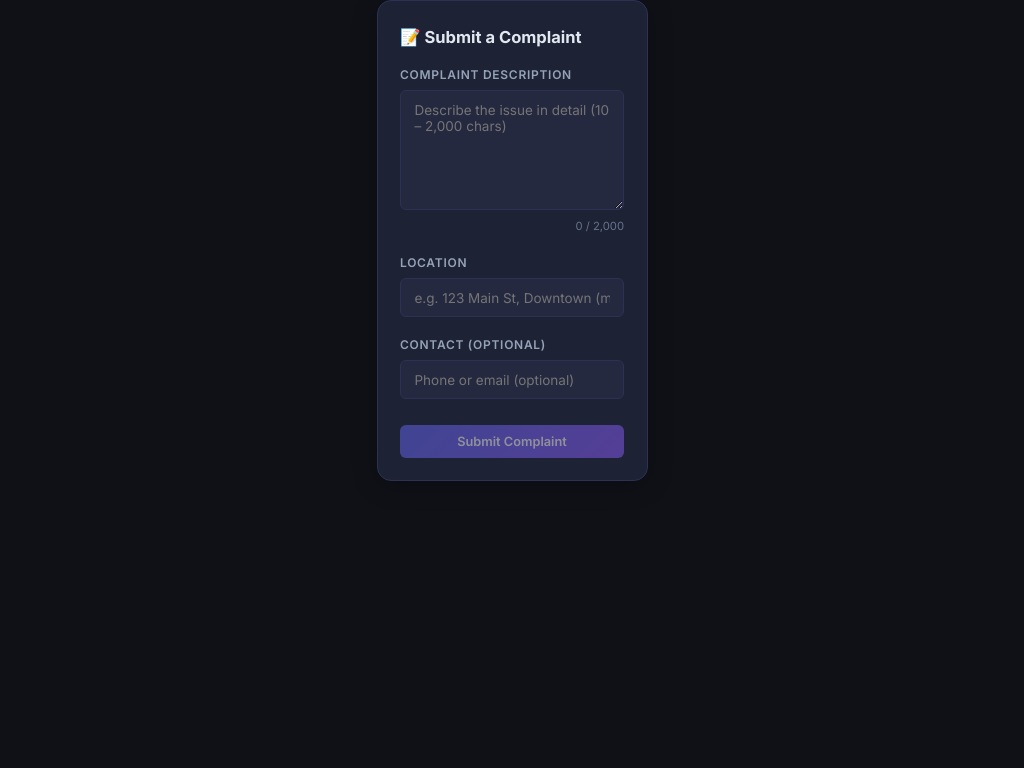
Scenario: SubmitPage › submits valid complaint and displays triage result
Step 1. Type "Water pipeline burst causing severe flooding on main street" into the text box labelled "Complaint Description" → x=512, y=150, box [400,90,624,210]
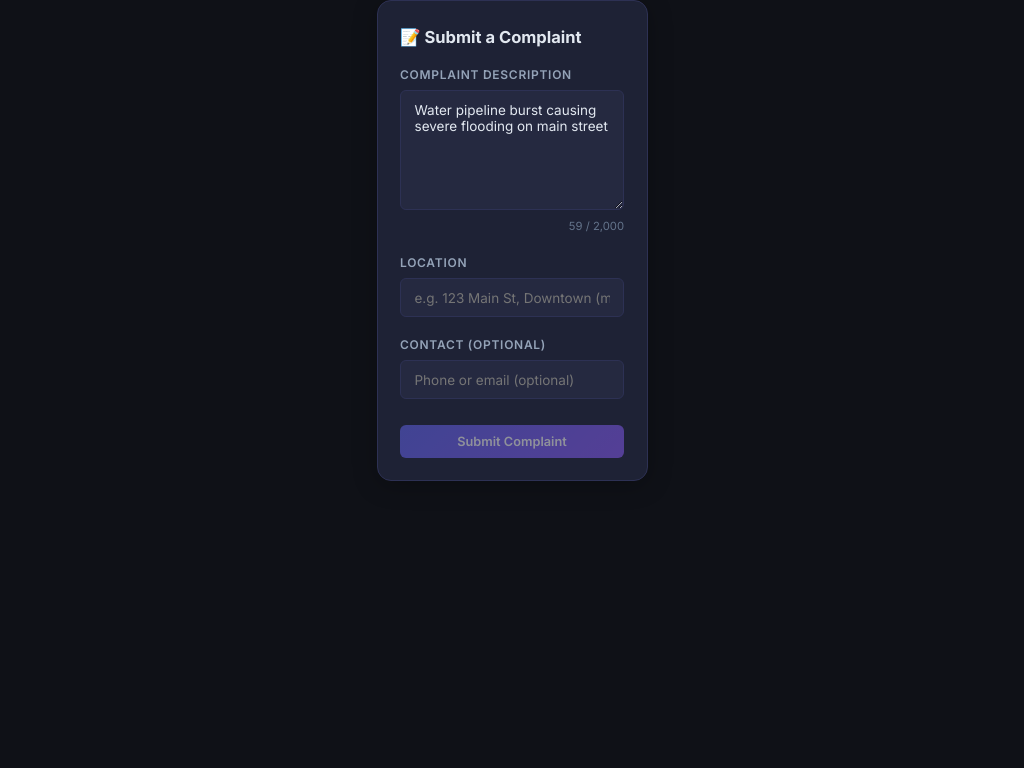
Step 2. Type "Sector G-9 Islamabad" into the field labelled "Location" → x=512, y=298, box [400,278,624,317]
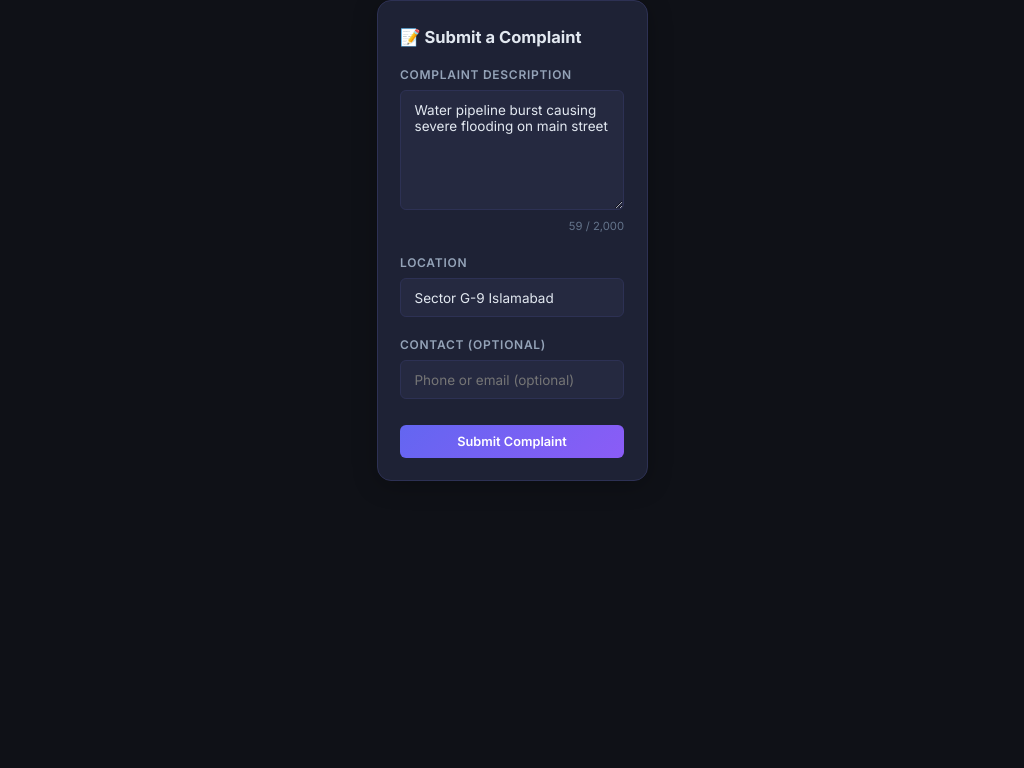
Step 3. Click the button "Submit Complaint" → x=512, y=442, box [400,425,624,458]
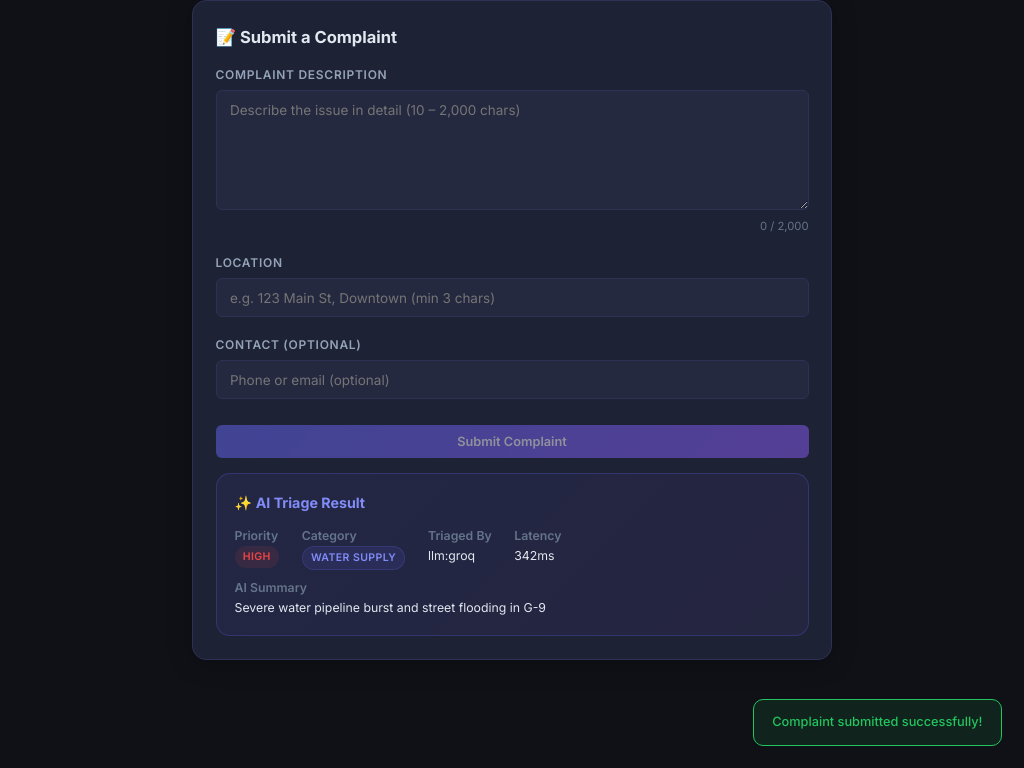
Check: the heading "✨ AI Triage Result" is shown, box [234,494,365,511]
Check: the text "llm:groq" is shown, box [428,548,475,563]
